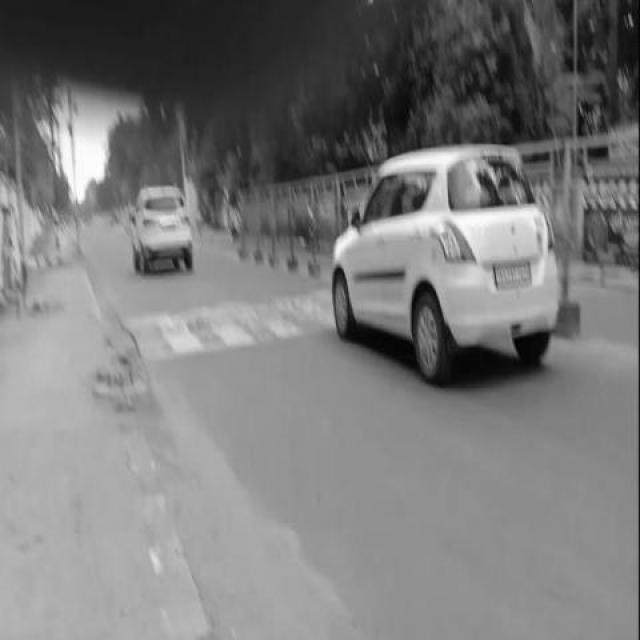Speed Bump: (121, 288, 332, 366)
